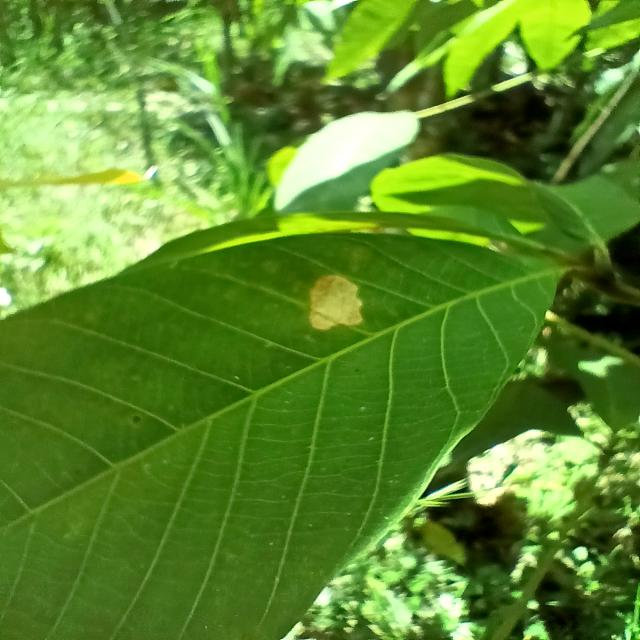Leaf-Blight: (309, 274, 363, 330)
